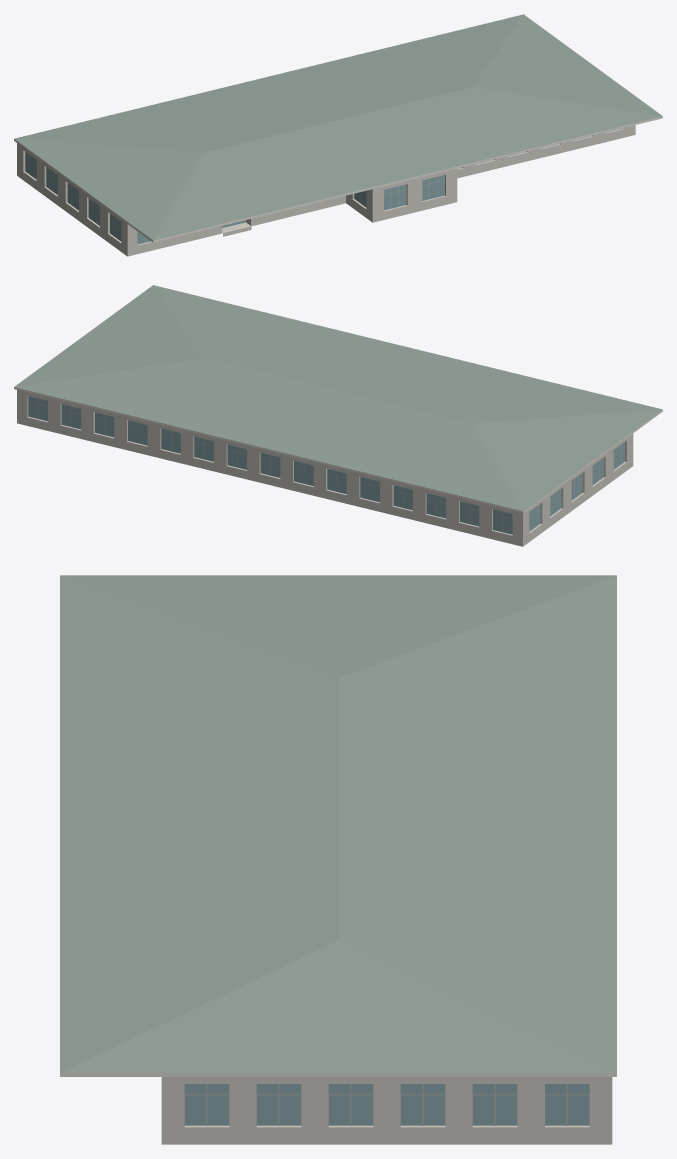
The picture shows the model from 3 angles, top to bottom: view 1: azimuth 30°, elevation 25°; view 2: azimuth 150°, elevation 25°; view 3: azimuth 270°, elevation 25°; orthographic projection. The views are drawn at different scales.
Visible parts, largest first — view 1: civil-lab__roof, civil-lab__wall, civil-lab__glass, civil-lab__trim, civil-lab__frame; view 2: civil-lab__roof, civil-lab__wall, civil-lab__glass, civil-lab__trim, civil-lab__frame; view 3: civil-lab__roof, civil-lab__wall, civil-lab__glass, civil-lab__trim, civil-lab__frame.
Boxes of the visible parts, bbox=[...] form: civil-lab__roof: bbox=[14, 14, 662, 256]; civil-lab__wall: bbox=[17, 125, 635, 256]; civil-lab__glass: bbox=[25, 128, 623, 244]; civil-lab__trim: bbox=[14, 116, 662, 242]; civil-lab__frame: bbox=[25, 130, 614, 242]; civil-lab__roof: bbox=[14, 285, 662, 546]; civil-lab__wall: bbox=[17, 390, 633, 546]; civil-lab__glass: bbox=[28, 396, 624, 534]; civil-lab__trim: bbox=[14, 387, 662, 513]; civil-lab__frame: bbox=[28, 398, 625, 532]; civil-lab__roof: bbox=[60, 575, 616, 1144]; civil-lab__wall: bbox=[161, 1077, 612, 1144]; civil-lab__glass: bbox=[184, 1084, 589, 1125]; civil-lab__trim: bbox=[60, 1073, 616, 1076]; civil-lab__frame: bbox=[184, 1084, 589, 1125].
Bounding box in the file's own units: 64.03 × 5.7 × 30.29.
